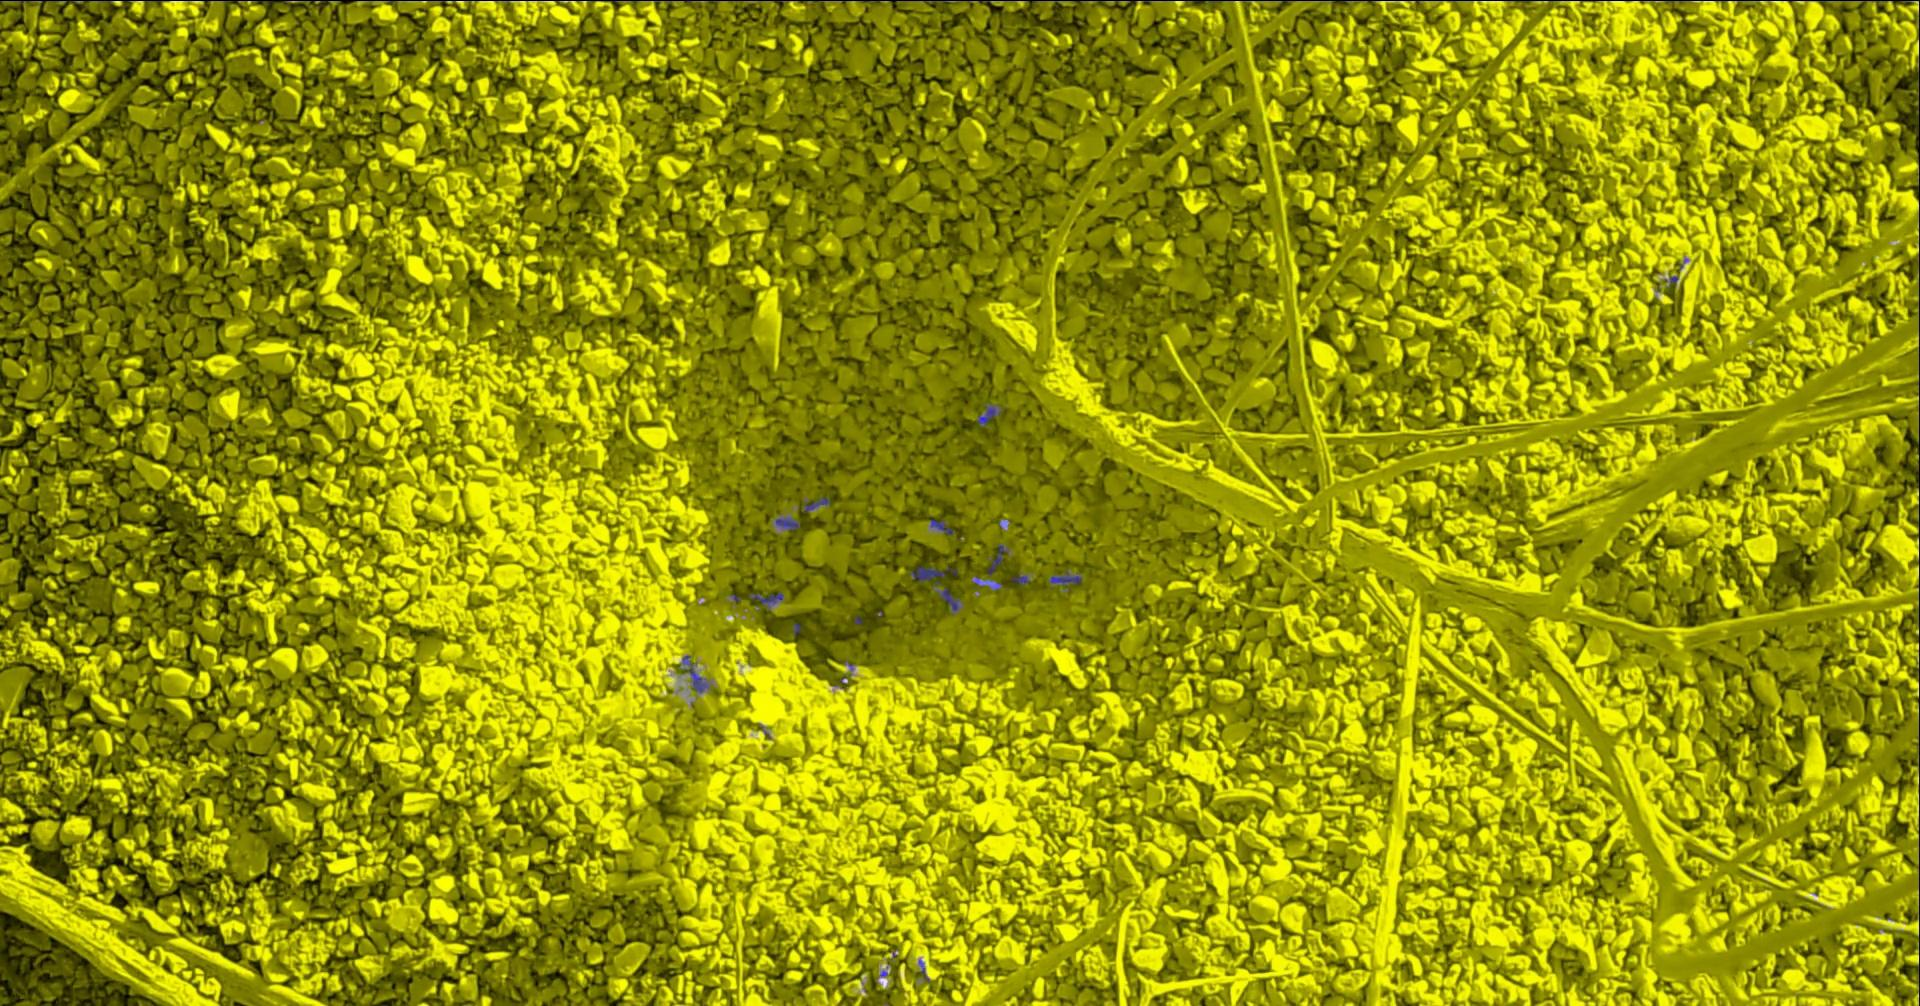ant: (909, 567, 959, 614), (679, 655, 707, 692), (987, 542, 1008, 574), (1048, 570, 1081, 588), (977, 401, 1001, 426), (749, 592, 783, 606), (803, 495, 829, 512), (930, 520, 952, 535), (775, 517, 799, 530), (1011, 575, 1029, 586)
